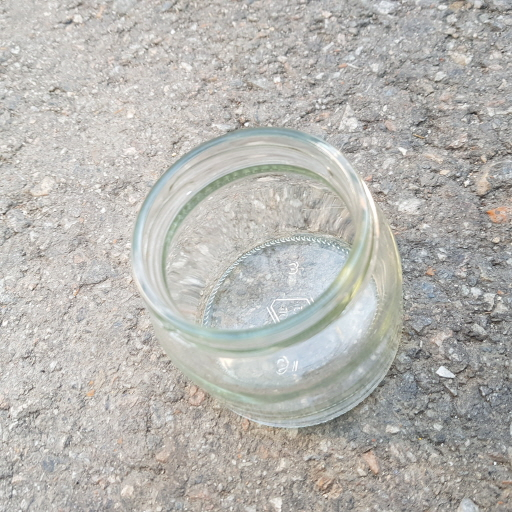Glass_5: (123, 118, 408, 428)
